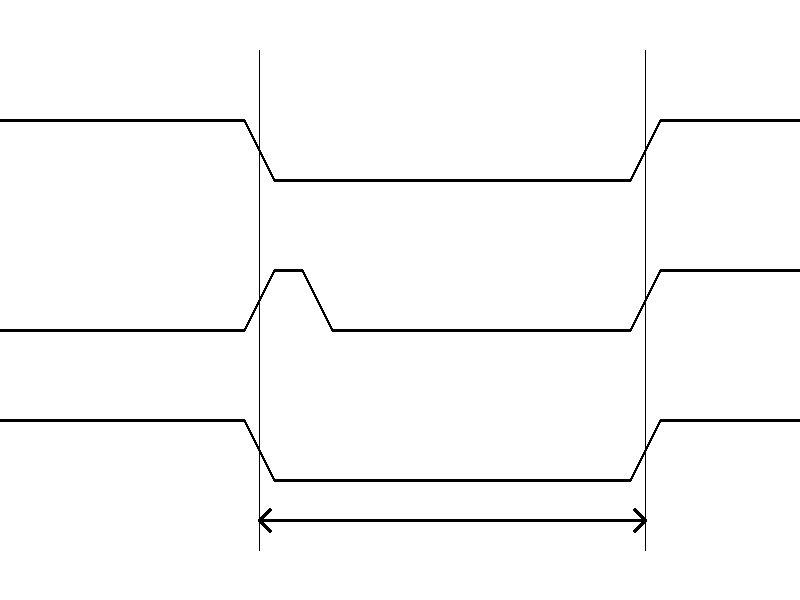double_arrow: (259, 505, 645, 535)
